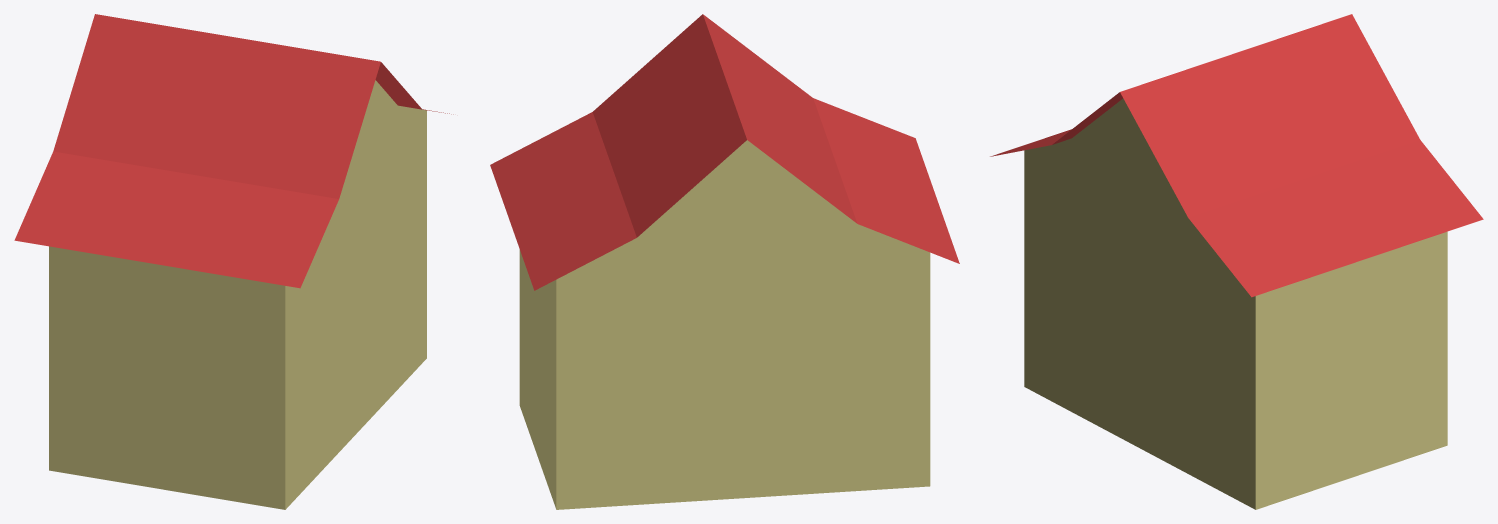
3 views of the same model, side by side, from view 1: azimuth 30°, elevation 25°; view 2: azimuth 150°, elevation 25°; view 3: azimuth 270°, elevation 25° (orthographic). The views are drawn at different scales.
Size of the model in its own units: 15.03 by 14.44 by 11.68.
